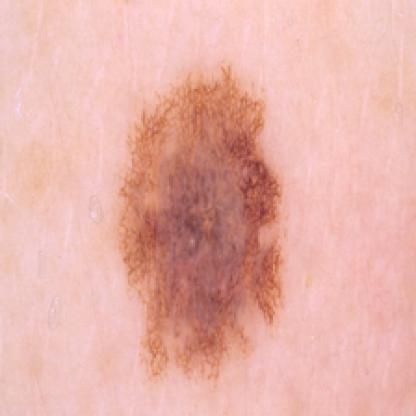benign: (113, 78, 284, 364)
